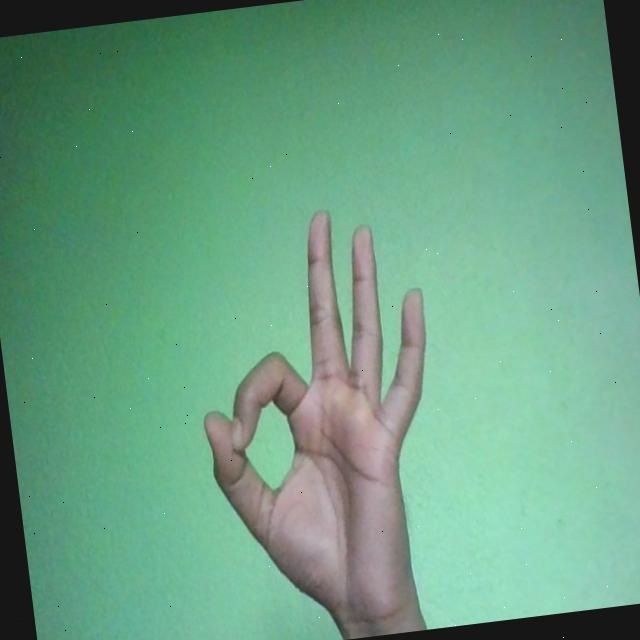Rock On: (179, 198, 463, 640)
